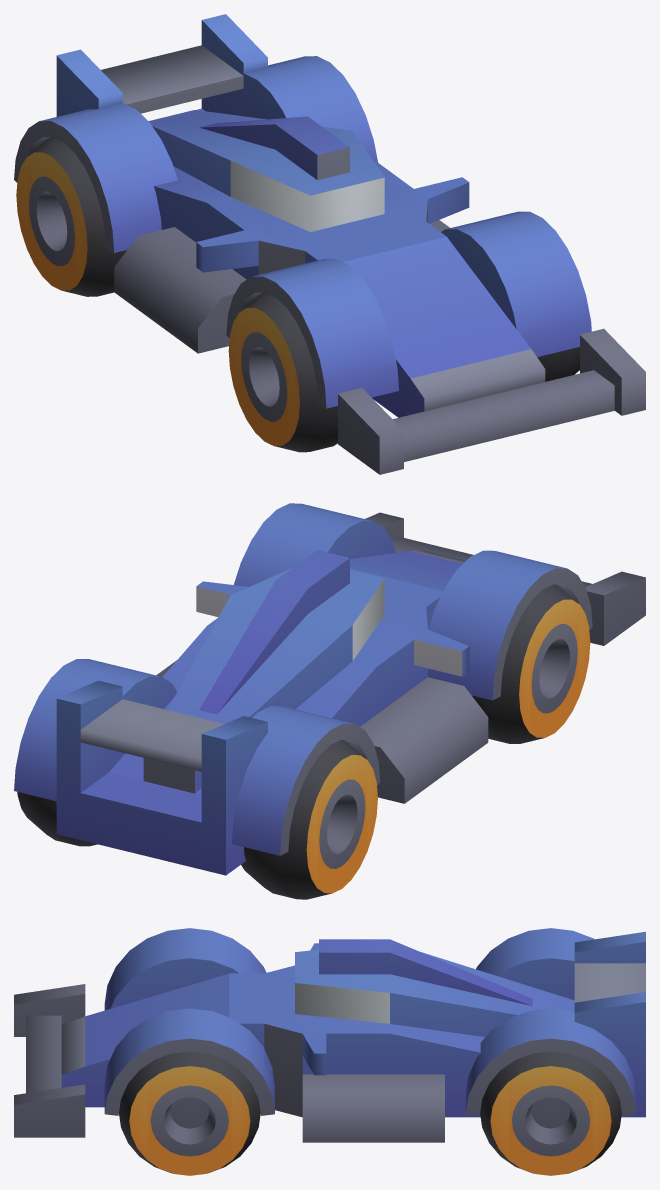
File: car.glb
3 renders of one model, top to bottom at view 1: azimuth 30°, elevation 25°; view 2: azimuth 150°, elevation 25°; view 3: azimuth 270°, elevation 25°, orthographic. The views are drawn at different scales.
Parts seen in each view (by area): view 1: body, wheel-front-right, wheel-back-right, wheel-front-left; view 2: body, wheel-back-right, wheel-front-right, wheel-back-left; view 3: body, wheel-back-left, wheel-front-left.
Boxes of the visible parts, box(x1,y1,x2,y2) form: body: box(14, 14, 645, 474); wheel-front-right: box(228, 292, 337, 452); wheel-back-right: box(16, 137, 126, 296); wheel-front-left: box(537, 347, 579, 381); body: box(14, 503, 645, 875); wheel-back-right: box(241, 740, 377, 899); wheel-front-right: box(472, 584, 590, 743); wheel-back-left: box(17, 792, 97, 846); body: box(14, 928, 645, 1142); wheel-back-left: box(480, 1051, 621, 1175); wheel-front-left: box(119, 1051, 260, 1175).
Size of the model in its own units: 1.2 by 0.8325 by 2.66.
1 material, 1 textured.
